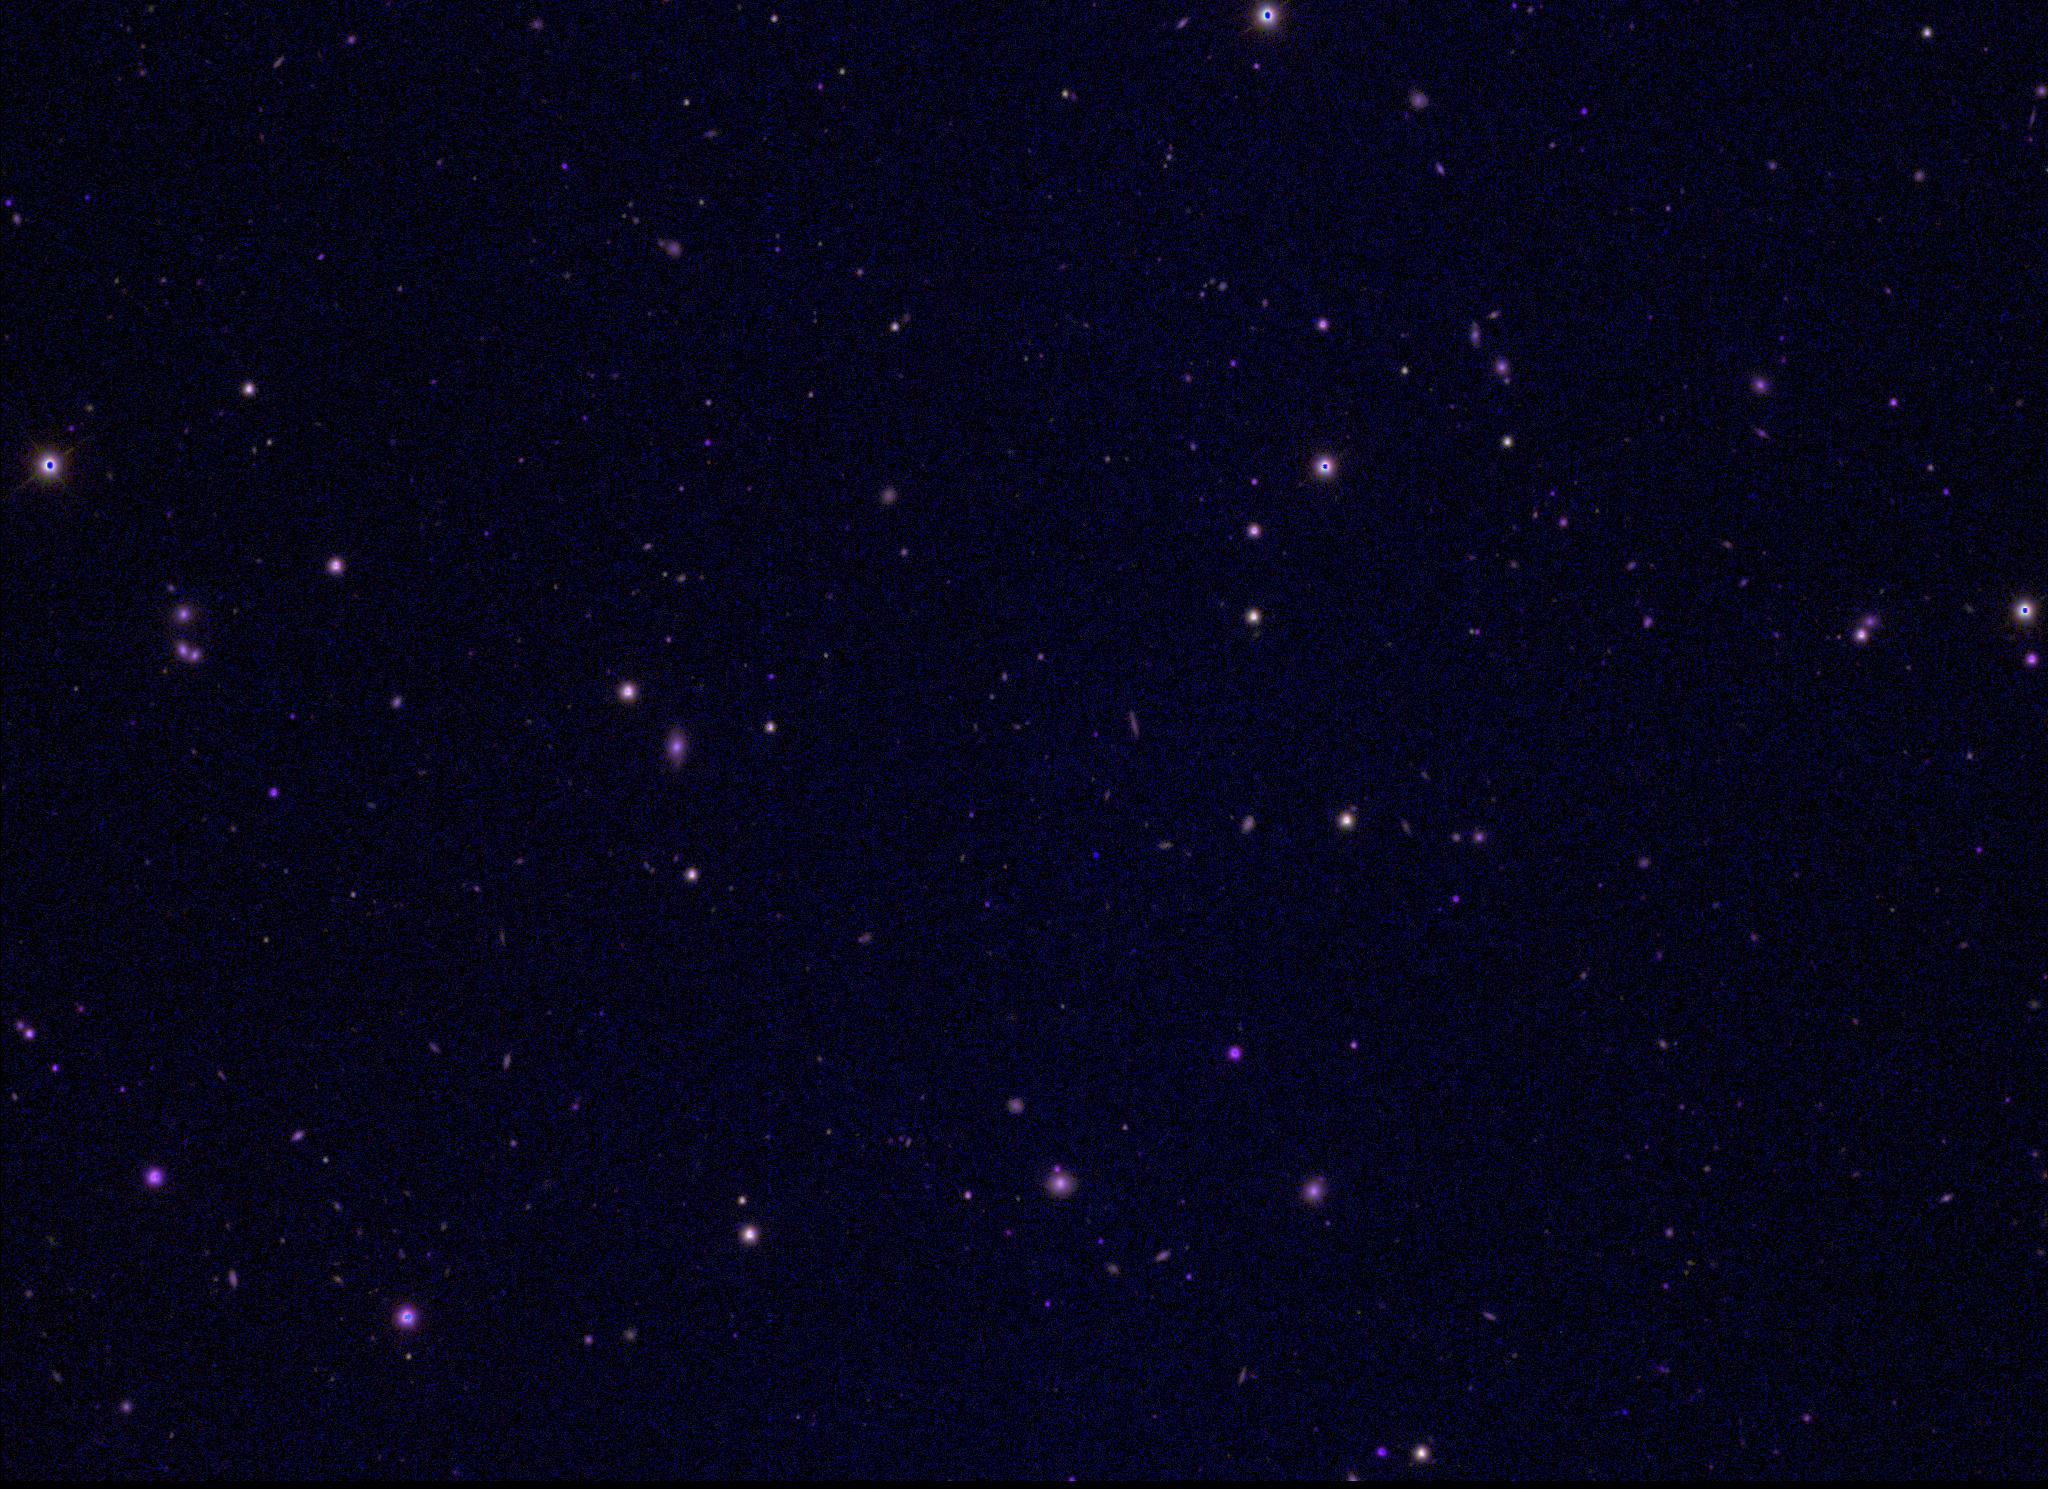L: (1088, 845, 1100, 859)
